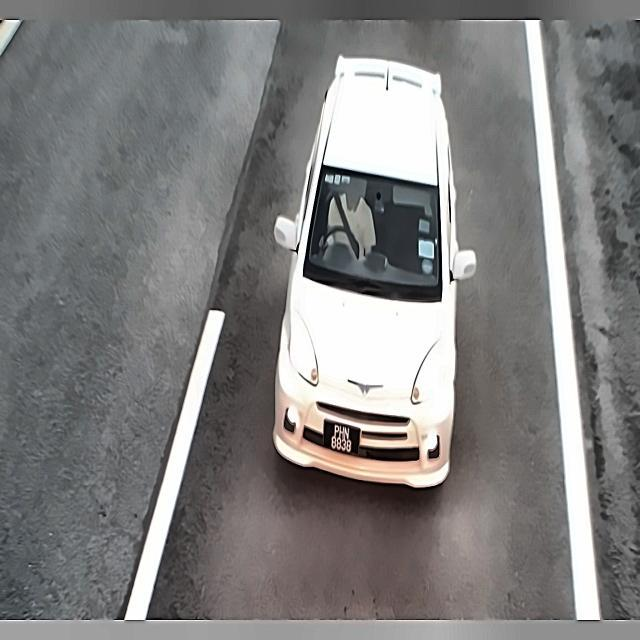car: (320, 418, 366, 456)
